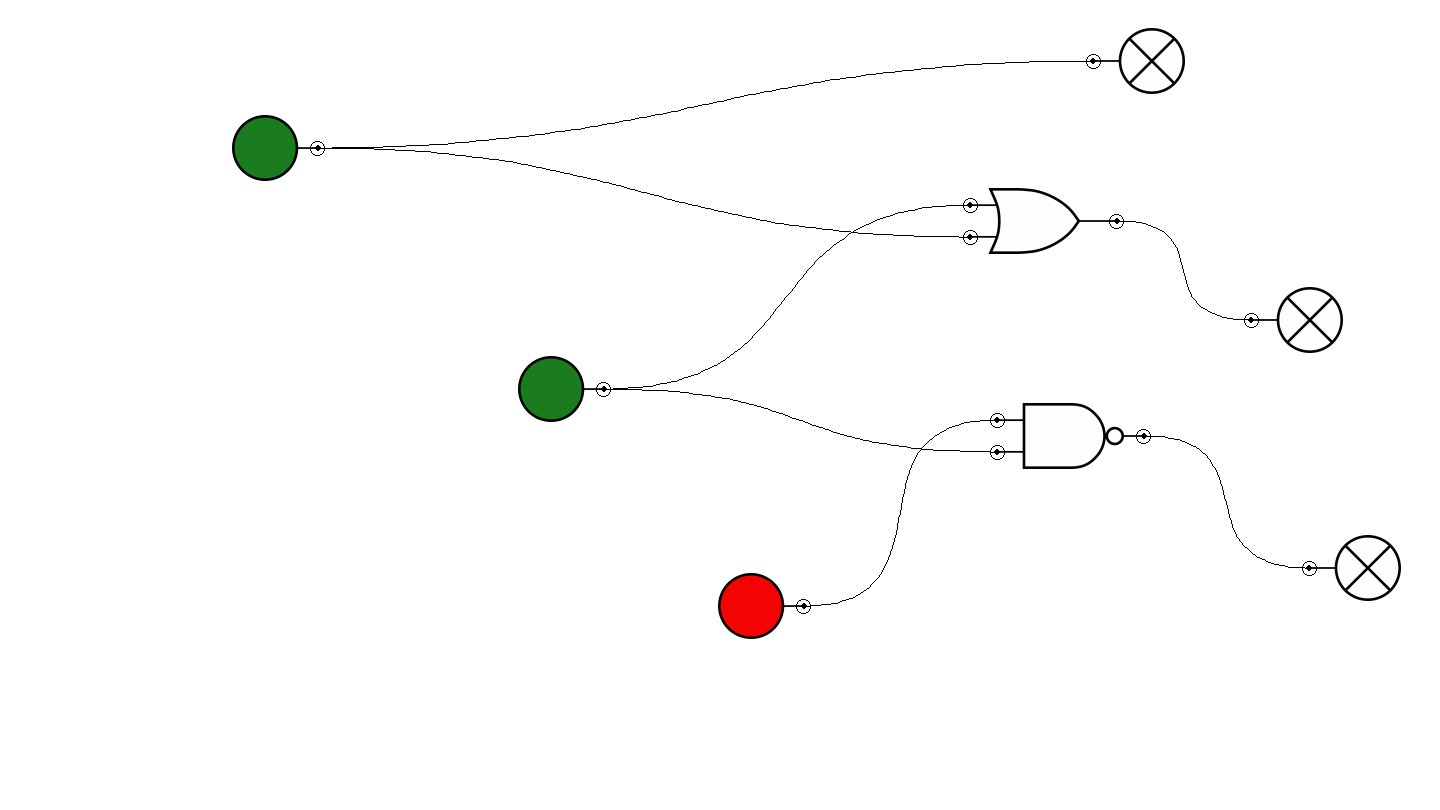bulb: (1244, 287, 1343, 353), (1302, 535, 1401, 601), (1086, 28, 1185, 94)
nand: (990, 403, 1151, 469)
or: (963, 188, 1124, 254)
switch_False: (718, 573, 811, 639)
switch_True: (232, 115, 325, 181), (518, 356, 611, 422)
